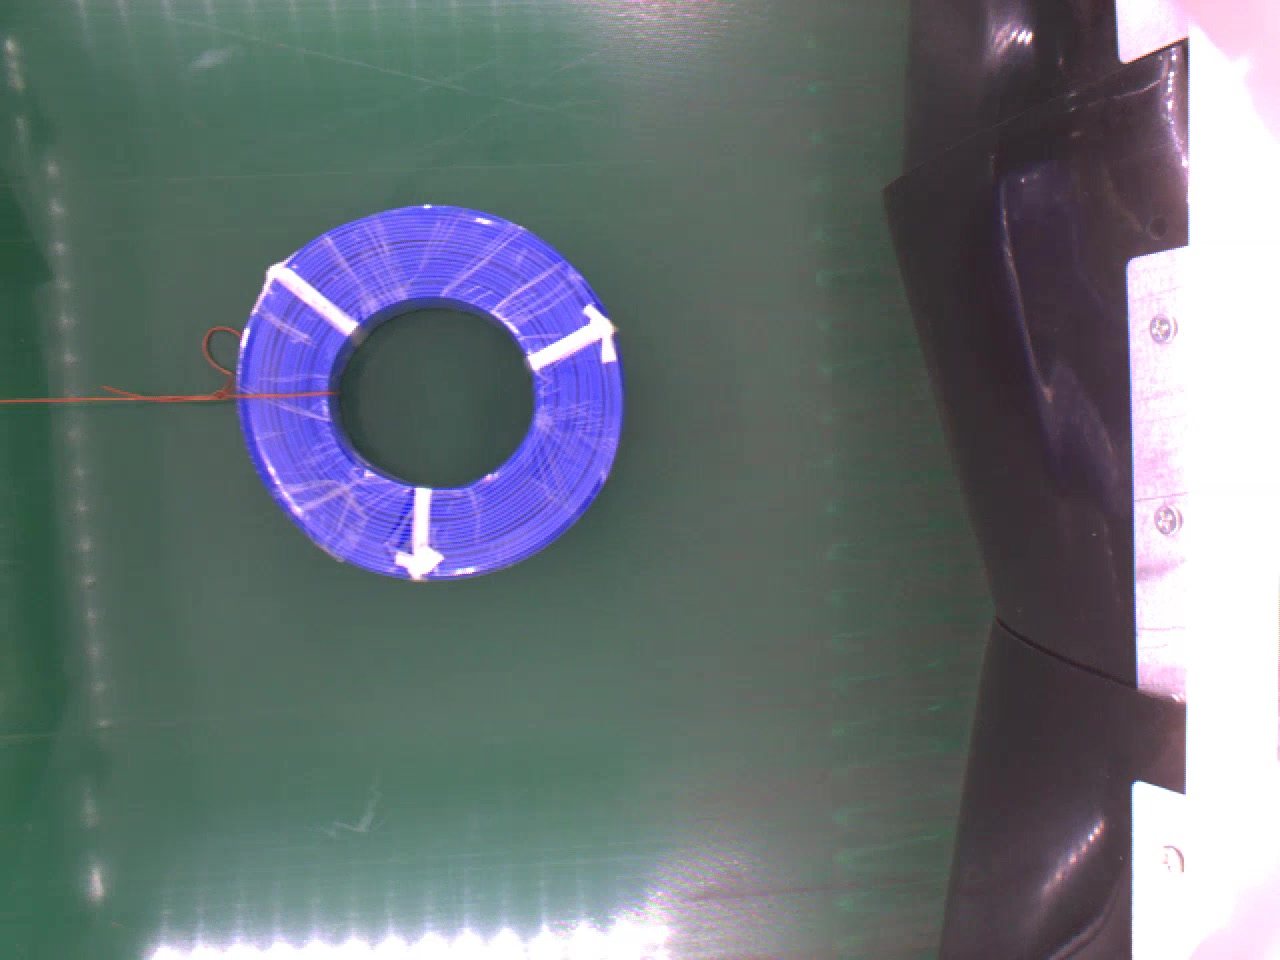blue: (235, 198, 626, 577)
